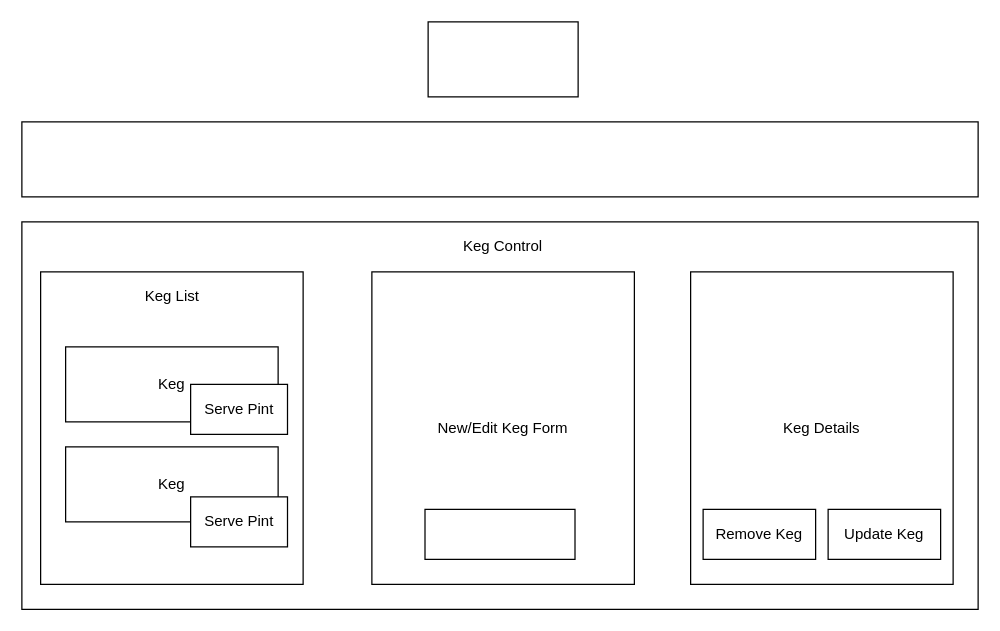
This 1000x631 diagram has some shape labels left out. Each missing label, with the centre of its shape:
"Add Keg" goes at (499,533).
"Header" goes at (499,159).
"Tap Room App" goes at (502,59).
